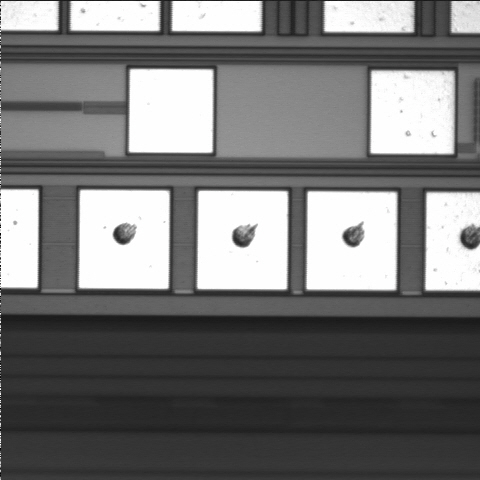pad: (197, 191, 288, 289), (79, 190, 169, 289), (307, 192, 397, 290), (129, 69, 213, 153), (371, 71, 454, 154)
